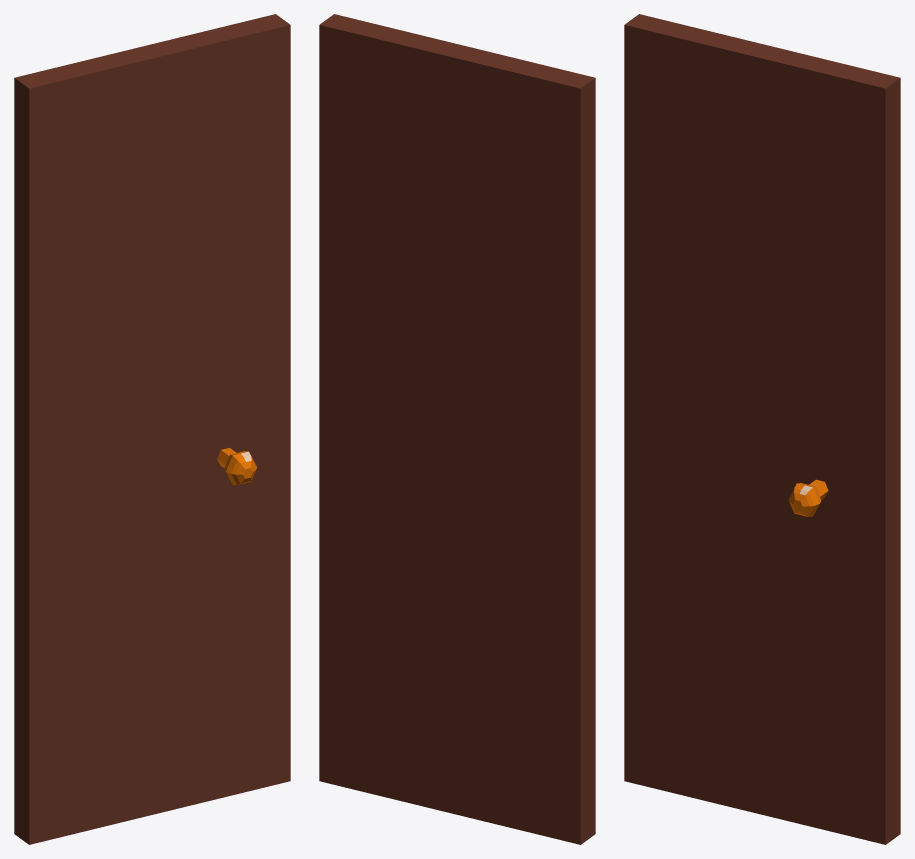
The model's file is house_door.fbx.
3 views of the same model, side by side, from view 1: azimuth 30°, elevation 25°; view 2: azimuth 150°, elevation 25°; view 3: azimuth 330°, elevation 25° (orthographic).
Parts seen in each view (by area): view 1: Cube; view 2: Cube; view 3: Cube.
Part boxes in pixels (<box>): Cube: <box>14,14,290,844</box>; Cube: <box>319,14,595,844</box>; Cube: <box>624,14,900,844</box>.
Bounding box in the file's own units: 1447 × 4000 × 360.
